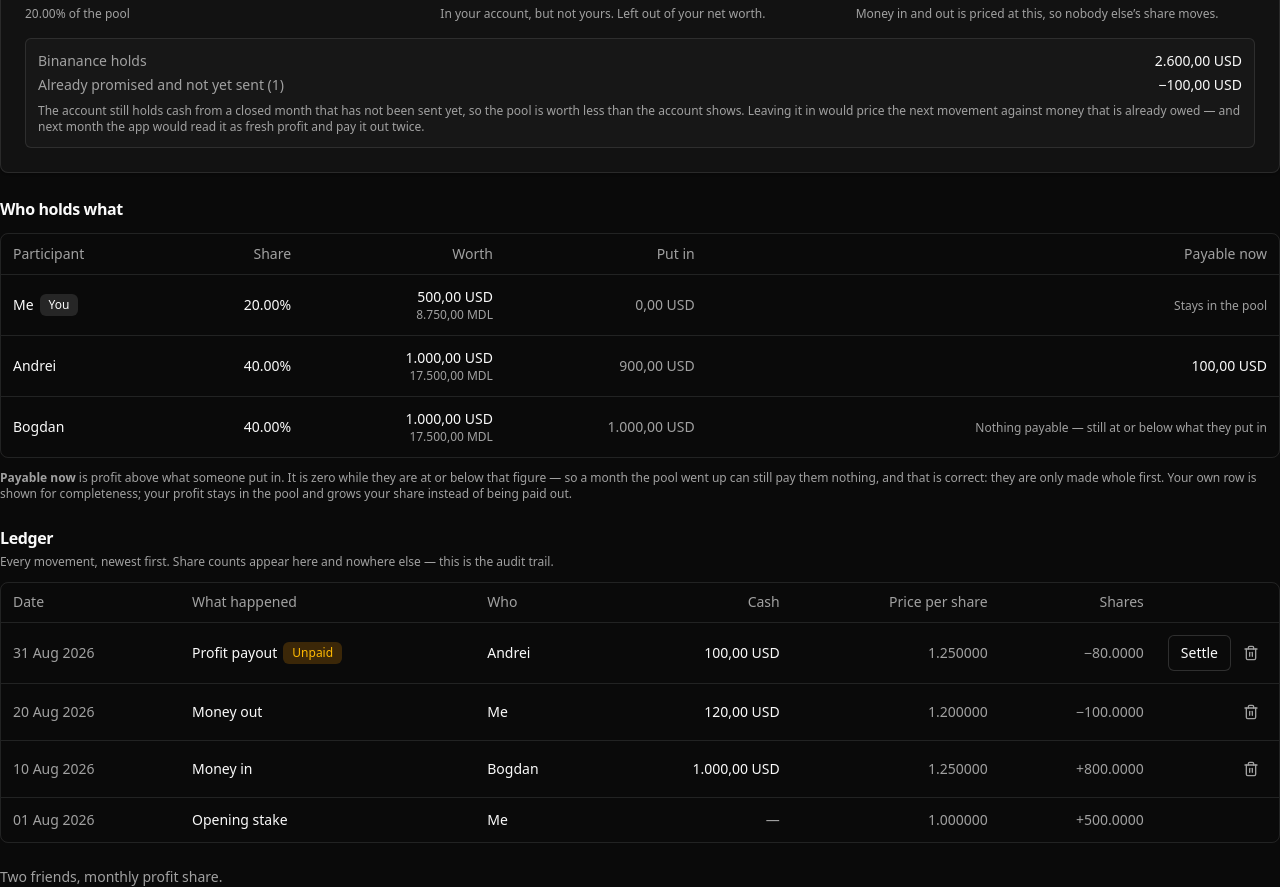
Test: PoolDetailView — ledger › warns that deleting an entry re-prices history and cannot be repaired
The width and height of the screenshot is (1280, 887).
(page scrolled)
Click the button with test id "pool-event-delete" at (1251, 712), box [1235, 696, 1267, 728]
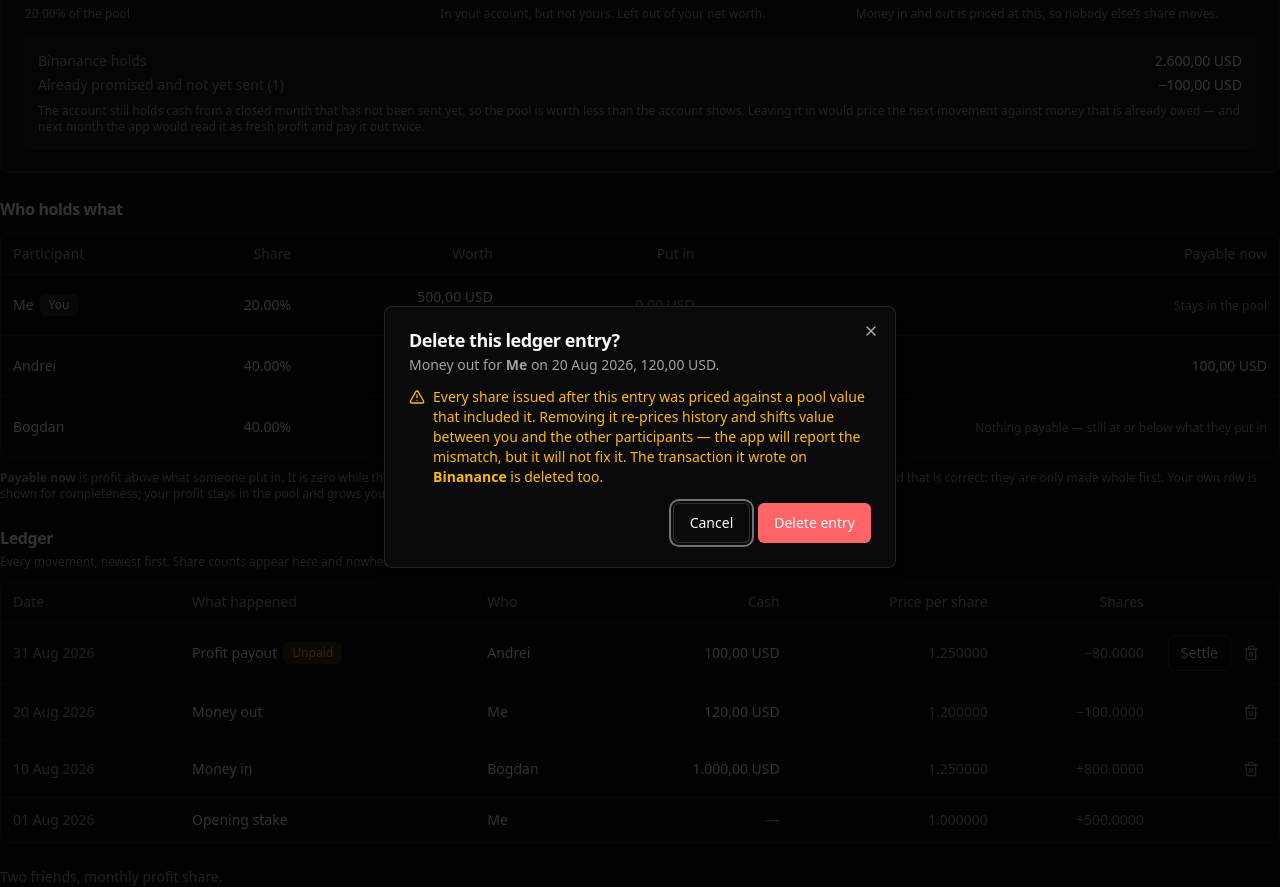
Expected: the element with test id "delete-pool-event-warning" shows "re-prices history", [433, 387, 865, 466]
Expected: the dialog with test id "delete-pool-event-dialog" shows "Binanance", [433, 467, 507, 486]
Click the button with test id "delete-pool-event-confirm" at (815, 523), box [758, 503, 871, 543]
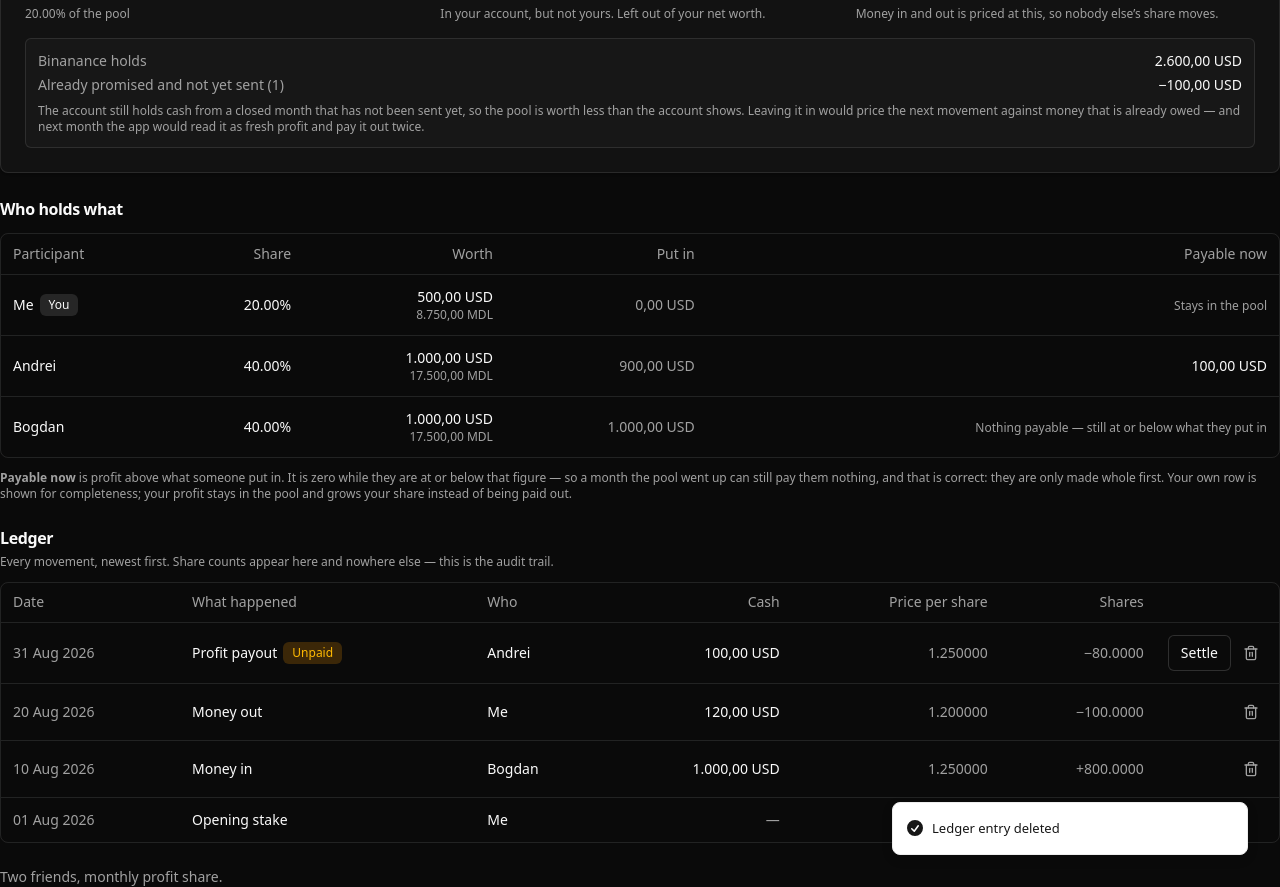
Expected: the dialog with test id "delete-pool-event-dialog" is gone
